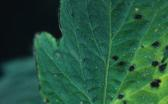Tomato Early blight leaf: (48, 0, 168, 104)
